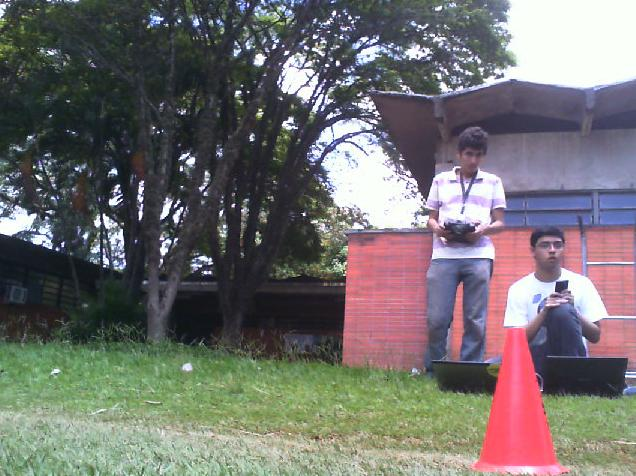0 cone: (474, 326, 566, 476)
